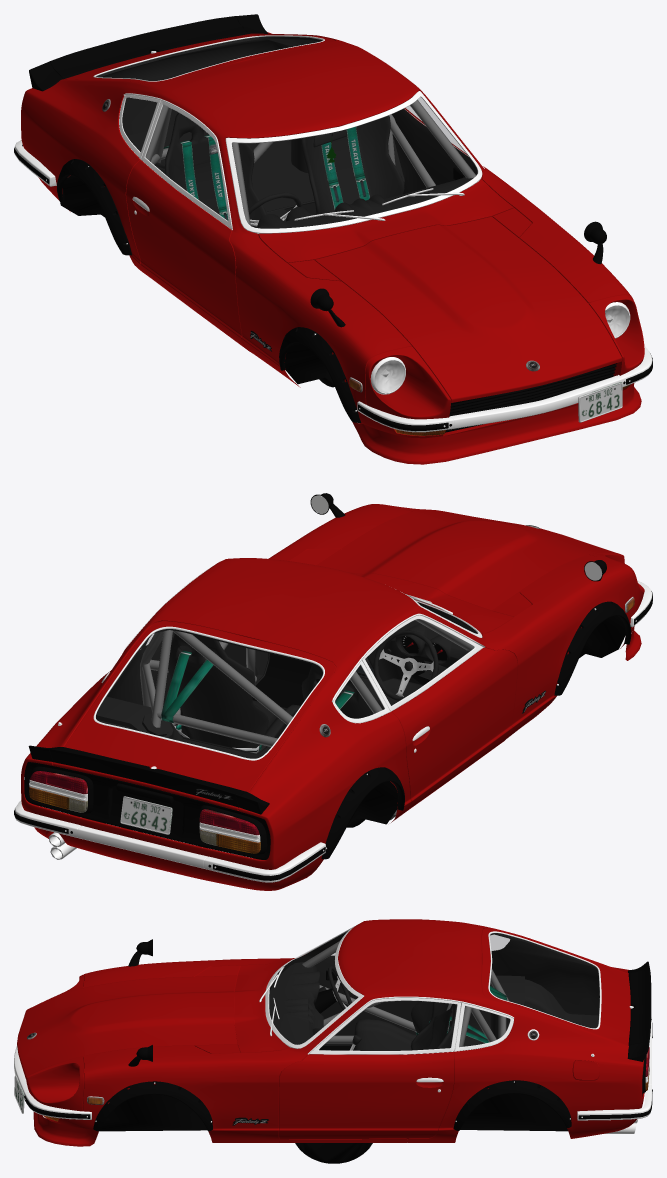
The model's file is fairlady-z.glb.
3 views of the same model, one above another, from view 1: azimuth 30°, elevation 25°; view 2: azimuth 150°, elevation 25°; view 3: azimuth 270°, elevation 25° (orthographic). The views are drawn at different scales.
Visible parts, largest first — view 1: body; view 2: body; view 3: body, wheel.
Boxes of the visible parts, x1=… form: body: x1=14, y1=14, x2=652, y2=464; body: x1=14, y1=493, x2=652, y2=890; body: x1=14, y1=919, x2=652, y2=1146; wheel: x1=295, y1=1143, x2=372, y2=1163.
Size of what is drawn, in the model's own units: 1.78 by 1.49 by 4.2.
10 materials, 5 textured.
